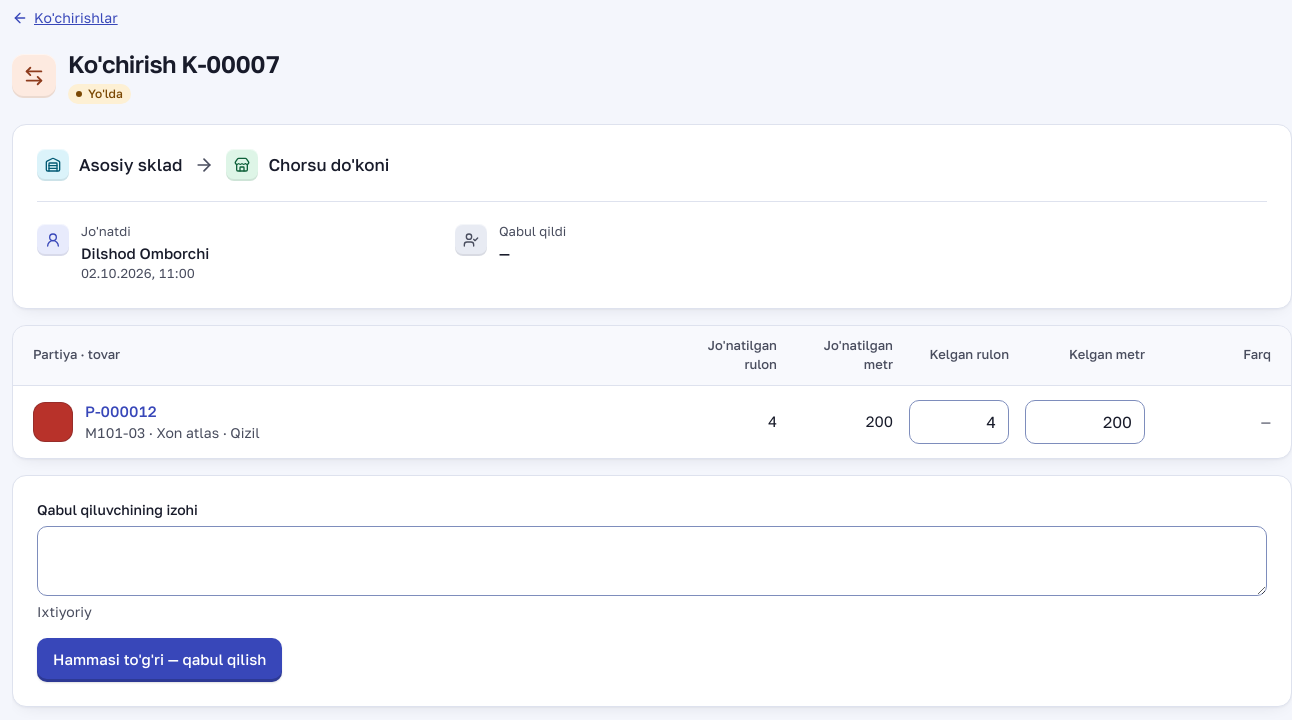
Test: Ko'chirishni qabul qilish › ortiq kelgani ham farq — alohida ko'rinadi
Check: the heading "Ko'chirish K-00007" is shown, box [68,48,280,80]
Replace the text in the field named "P-000012: kelgan metr" with "204" at coordinates (1085, 422), box [1025,400,1145,444]
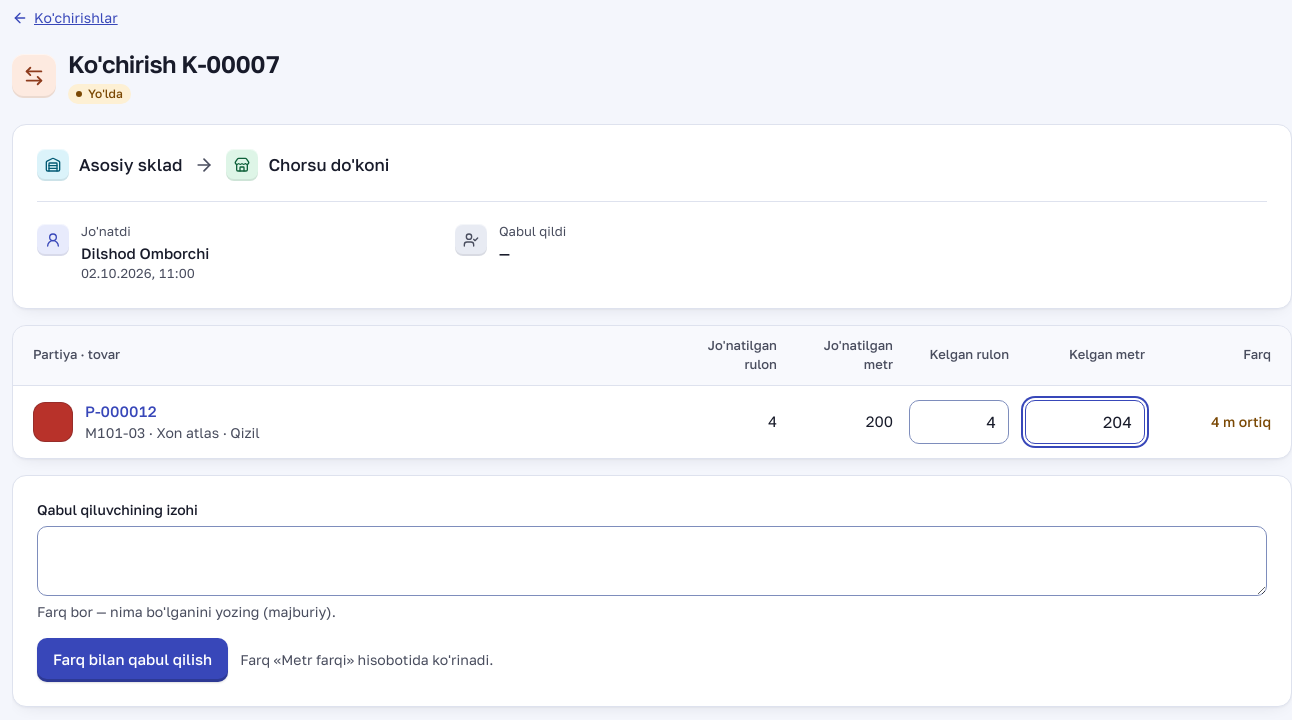
Check: the button "Farq bilan qabul qilish" is enabled, box [37,638,228,682]
Check: the text "4 m ortiq" is shown, box [1211,412,1271,430]
